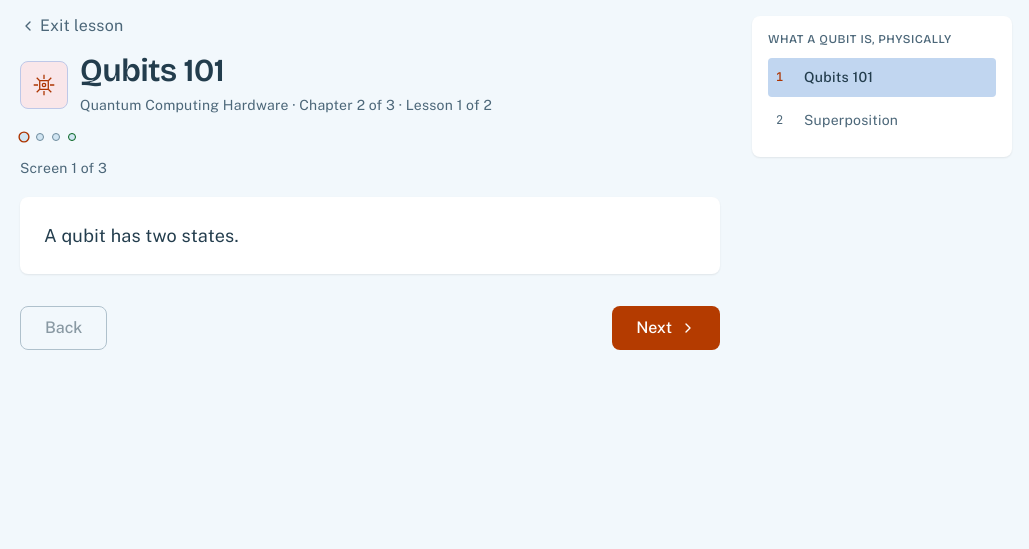
Test: an incorrect answer does not unlock Next; retrying and getting it correct does
This screenshot has width=1029, height=549.
Expected: the text "A qubit has two states." is shown, x1=44 y1=225 x2=239 y2=246
Click the button "Next" at [666, 328], box x1=612 y1=306 x2=720 y2=350
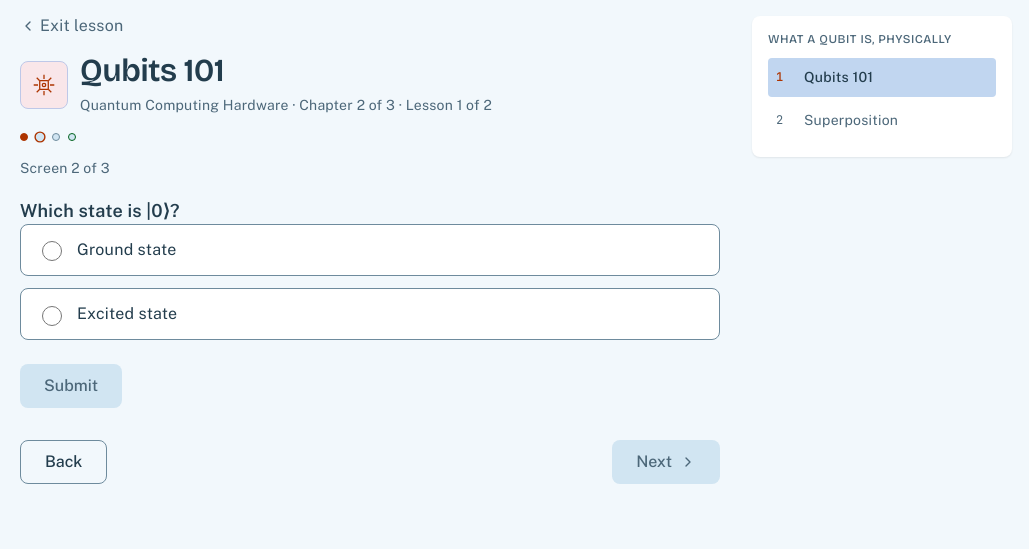
Click the radio button labelled "Ground state" at [52, 251], box x1=42 y1=241 x2=62 y2=261
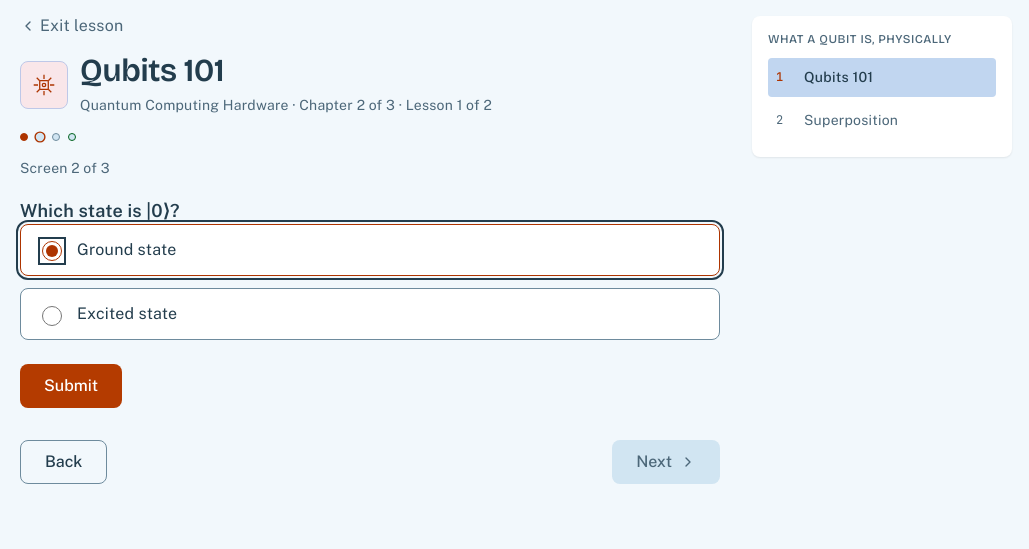
Click the button "Submit" at [71, 386], box x1=20 y1=364 x2=122 y2=408
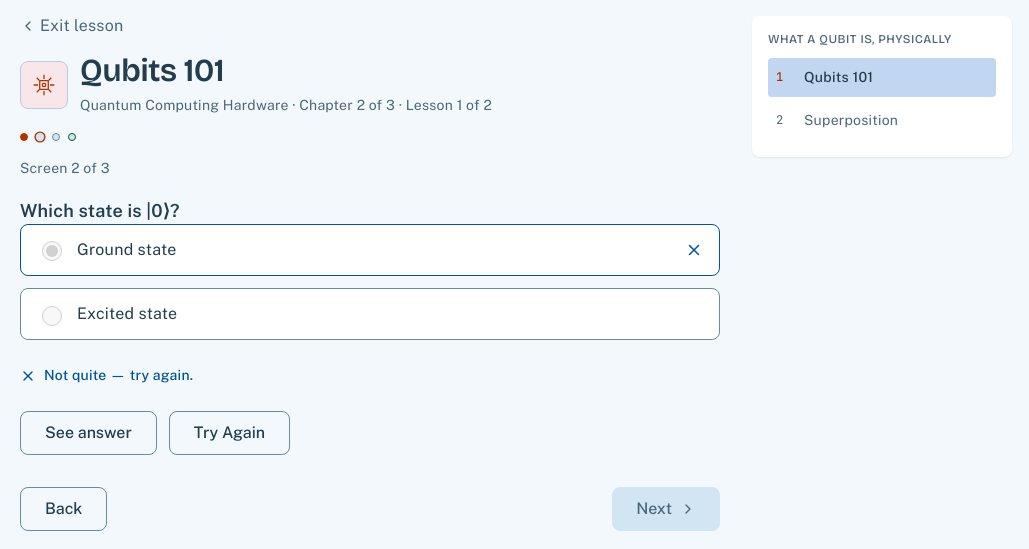
Result: the button "Next" is disabled at x1=612 y1=488 x2=720 y2=532
Result: the text "Not quite — try again." is shown at x1=20 y1=367 x2=193 y2=384
Click the button "Try Again" at [230, 434], box x1=169 y1=412 x2=290 y2=456
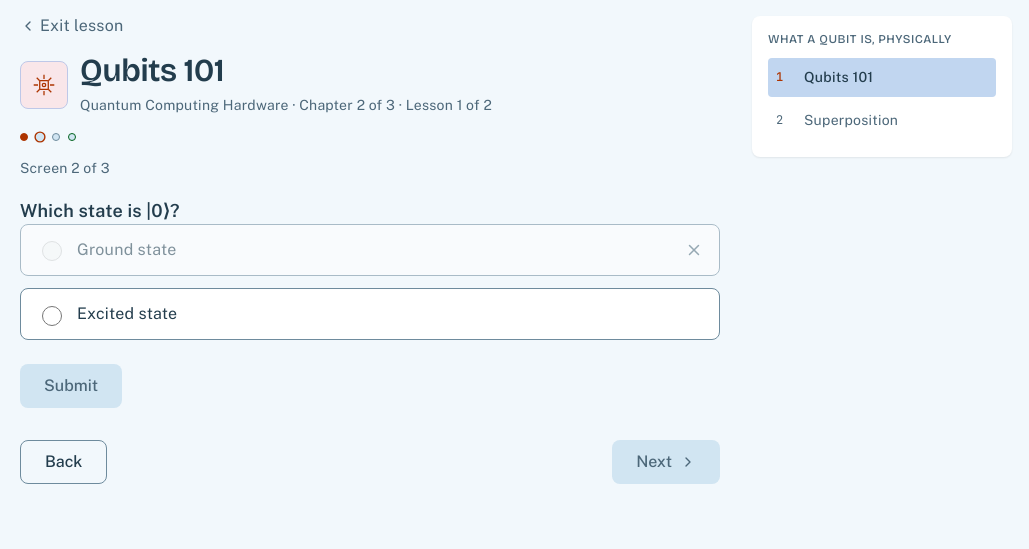
Result: the radio button labelled "Ground state" is disabled at x1=42 y1=241 x2=62 y2=261
Click the radio button labelled "Excited state" at [52, 316], box x1=42 y1=306 x2=62 y2=326
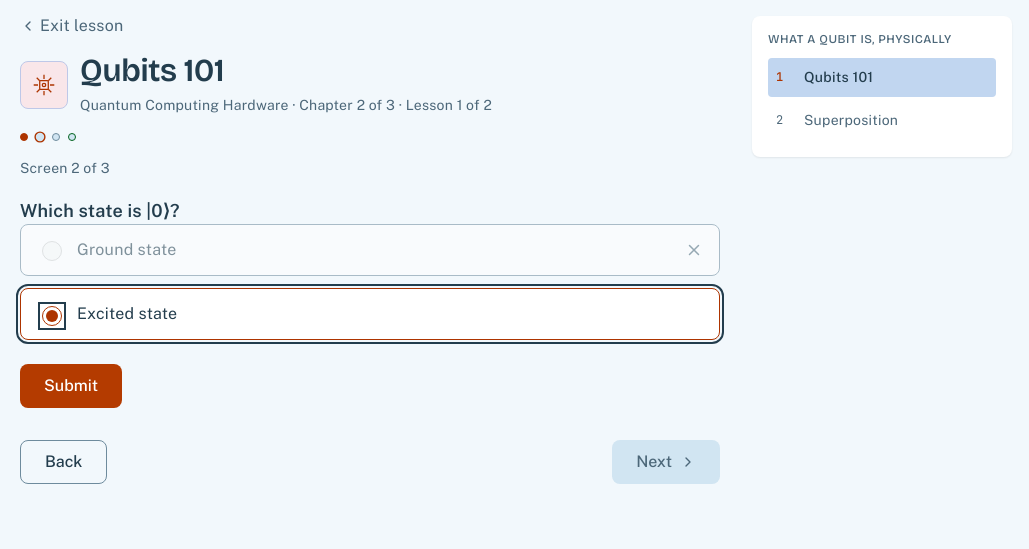
Click the button "Submit" at [71, 386], box x1=20 y1=364 x2=122 y2=408
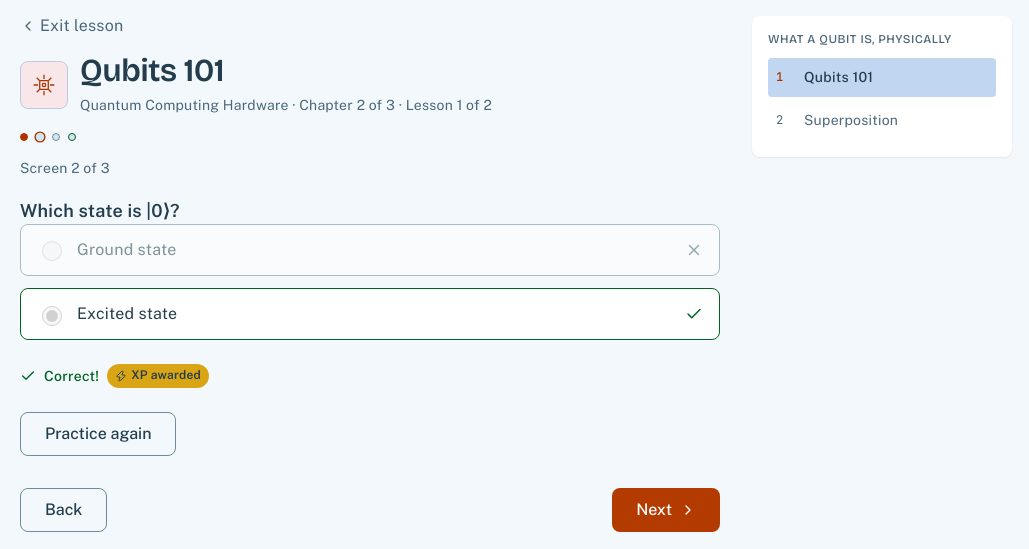
Result: the text "Correct!" is shown at x1=44 y1=365 x2=99 y2=388
Result: the button "Next" is enabled at x1=612 y1=488 x2=720 y2=532
